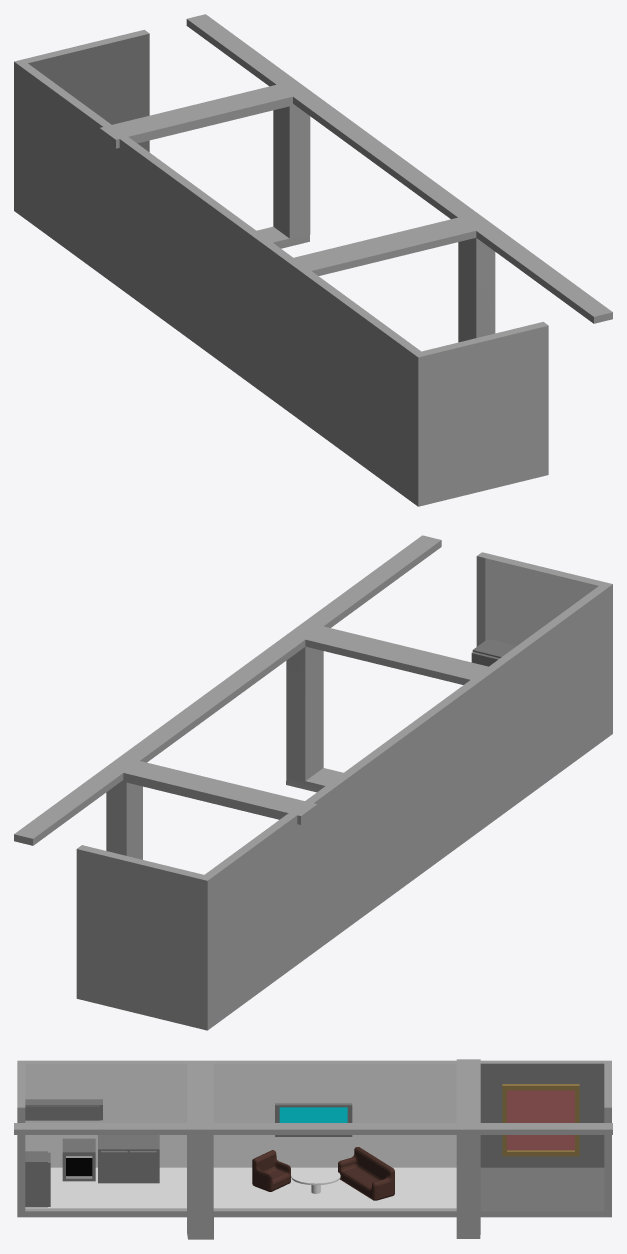
File: office.fbx
3 views of the same model, one above another, from view 1: azimuth 30°, elevation 25°; view 2: azimuth 150°, elevation 25°; view 3: azimuth 270°, elevation 25° (orthographic). The views are drawn at different scales.
Visible parts, largest first — view 1: pCube1; view 2: pCube1, pCube6; view 3: pCube1, pCube8, pCube7, pCube2, pCube5, pCube9, pCube4, pCube6, pCube3, pCylinder1.
Boxes of the visible parts, x1,y1,x2,y2 form: pCube1: [14, 14, 612, 506]; pCube1: [14, 535, 612, 1030]; pCube6: [471, 639, 516, 666]; pCube1: [14, 1059, 612, 1239]; pCube8: [502, 1084, 579, 1156]; pCube7: [98, 1135, 159, 1183]; pCube2: [338, 1147, 394, 1200]; pCube5: [25, 1099, 102, 1120]; pCube9: [275, 1103, 352, 1136]; pCube4: [62, 1138, 95, 1181]; pCube6: [25, 1151, 50, 1207]; pCube3: [252, 1150, 290, 1191]; pCylinder1: [291, 1167, 340, 1193].
Size of the model in its own units: 22.02 by 16.26 by 79.17.
